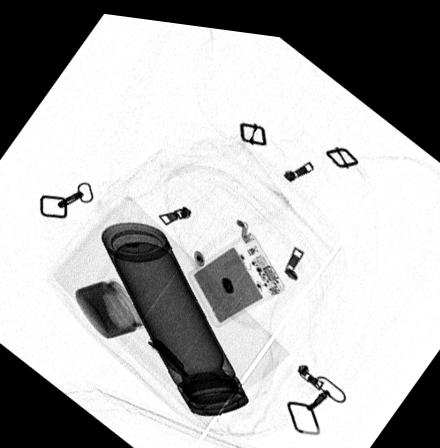Powerbank: (182, 224, 284, 321)
